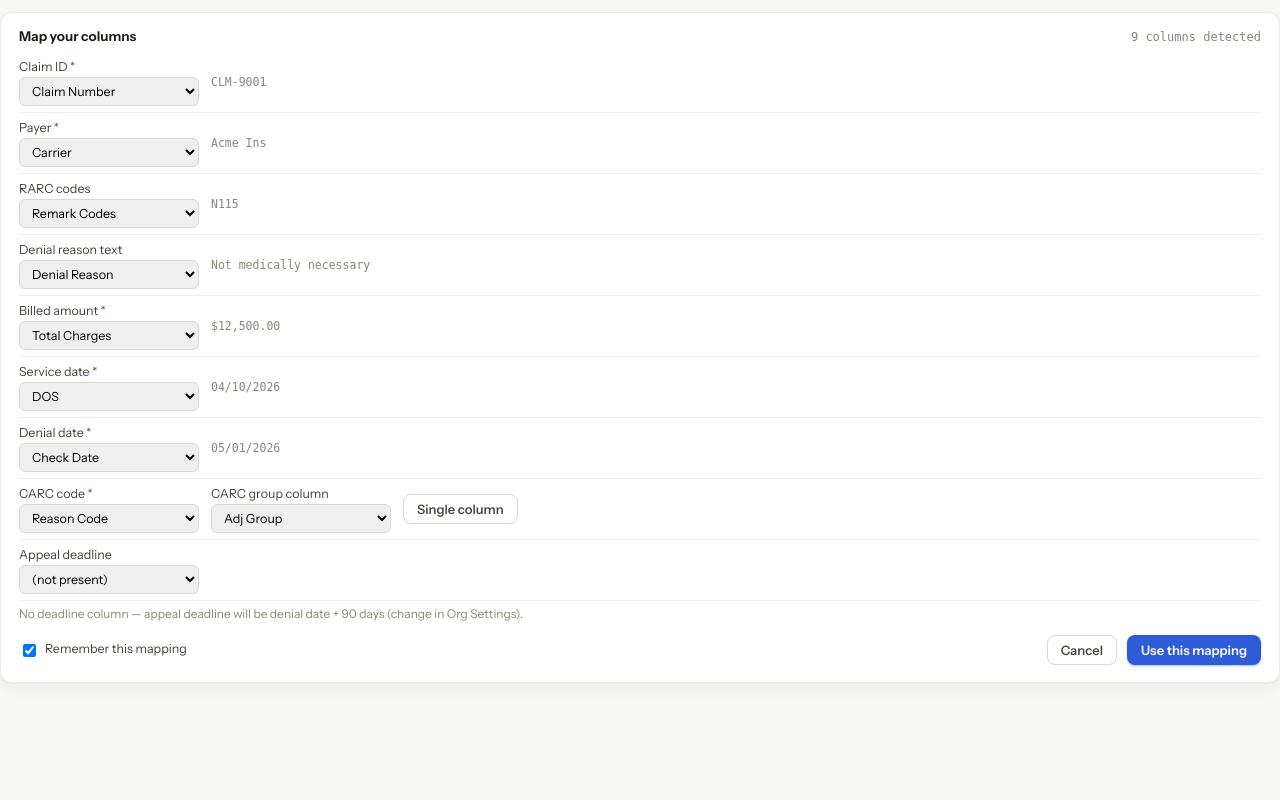
Test: missing required selection blocks confirm
The image size is (1280, 800).
Select "(not present)" in the dropdown labelled "Payer *" at (109, 152), box [19,138,199,166]
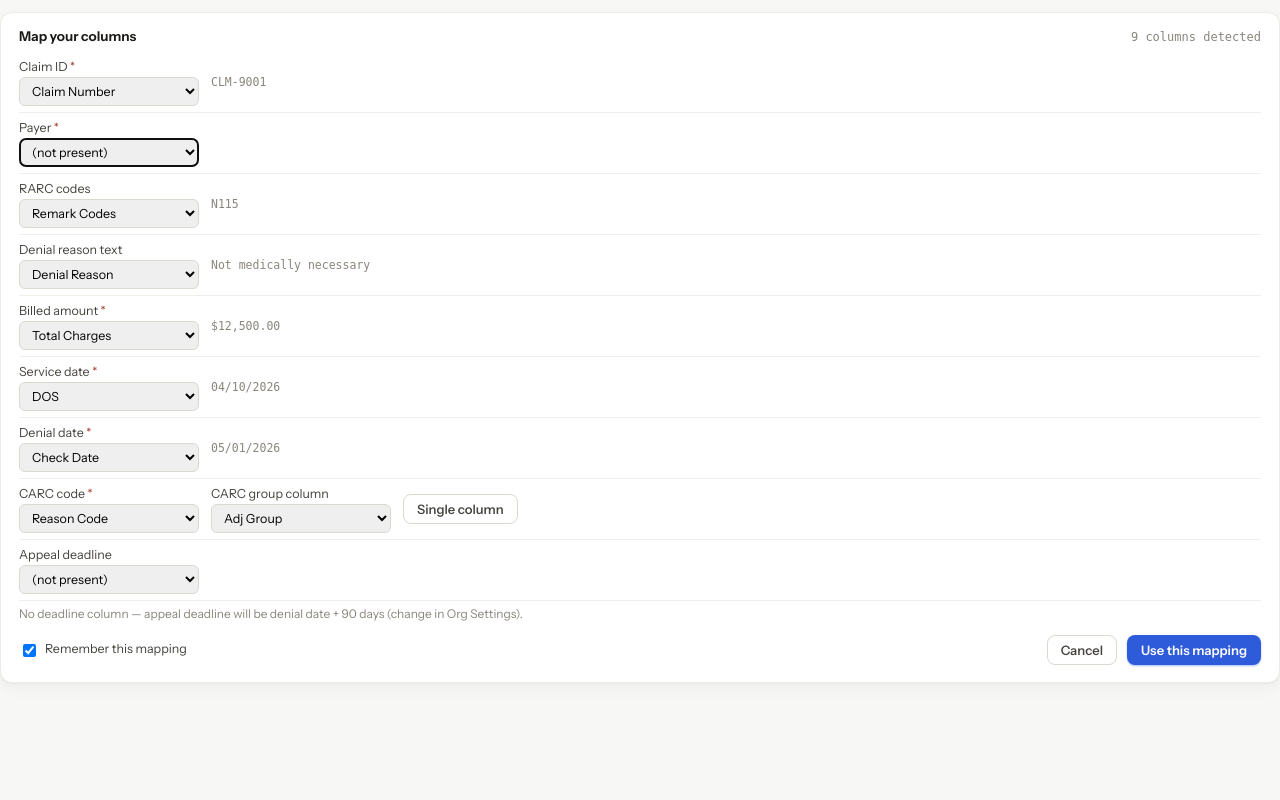
Click the button "Use this mapping" at (1194, 650), box [1127,635,1261,665]
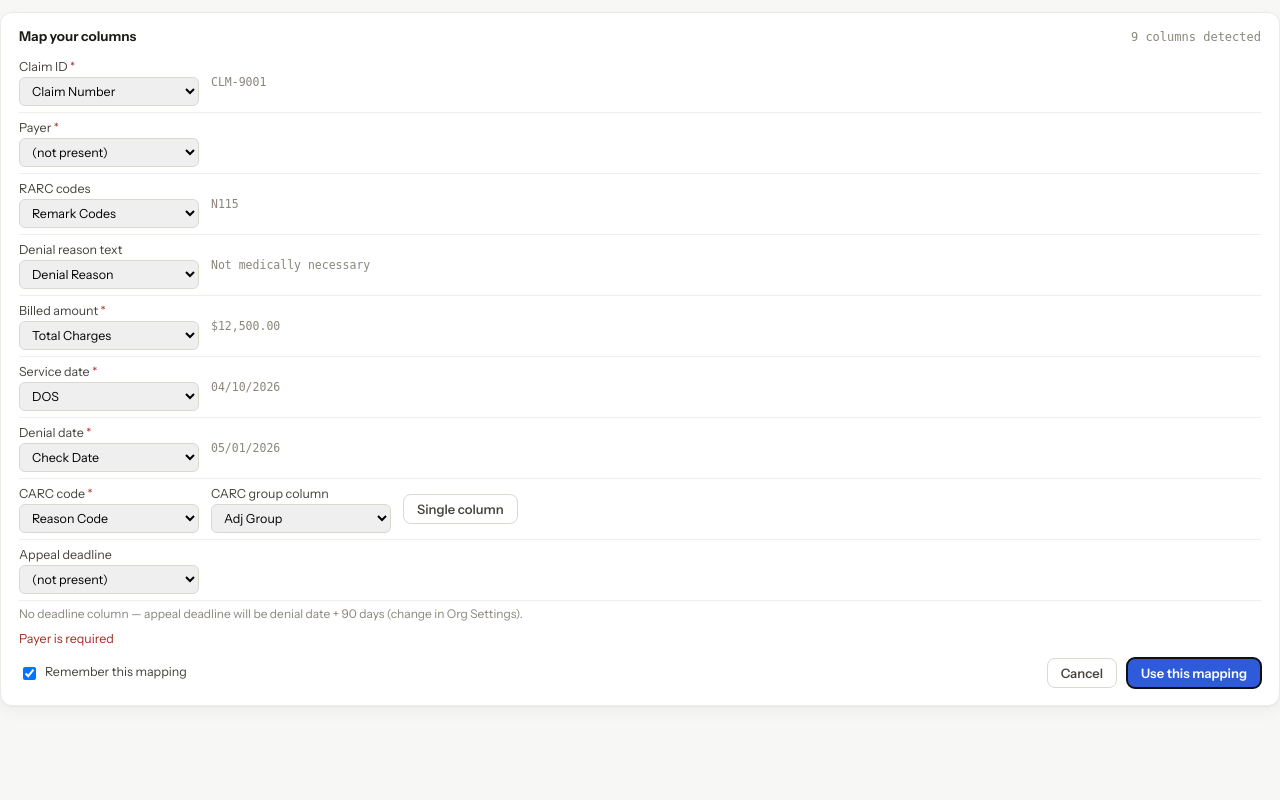
Expected: the text "Payer is required" is shown, [19,631,114,646]
